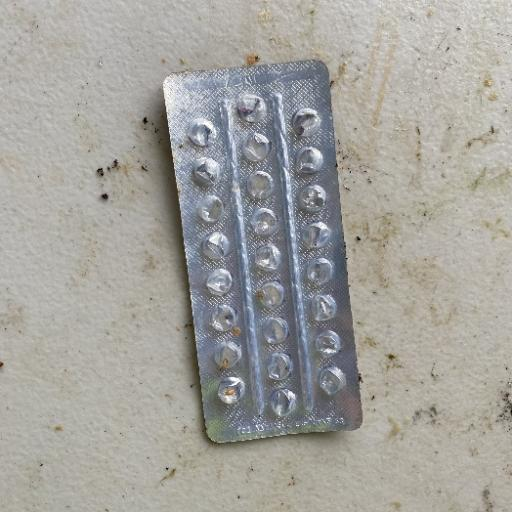Metal: (160, 58, 364, 444)
